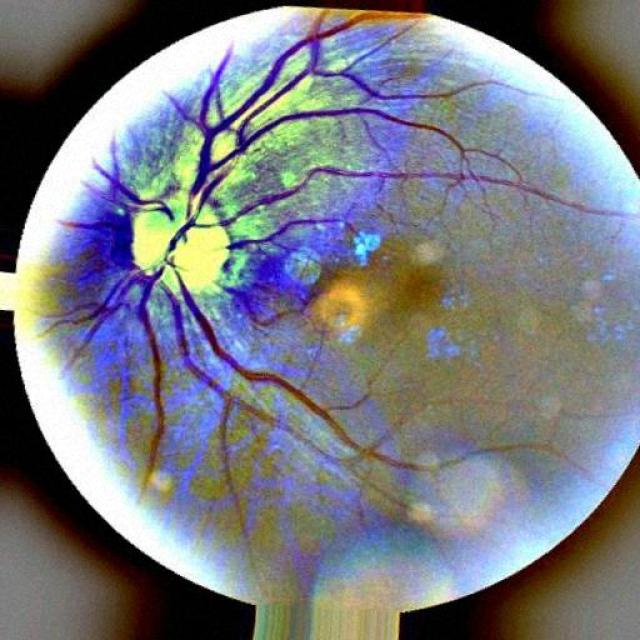Macula: (358, 258, 437, 329)
Nerves: (137, 252, 249, 555), (176, 28, 343, 231), (221, 213, 370, 270)
Optic Disk: (122, 189, 238, 307)
